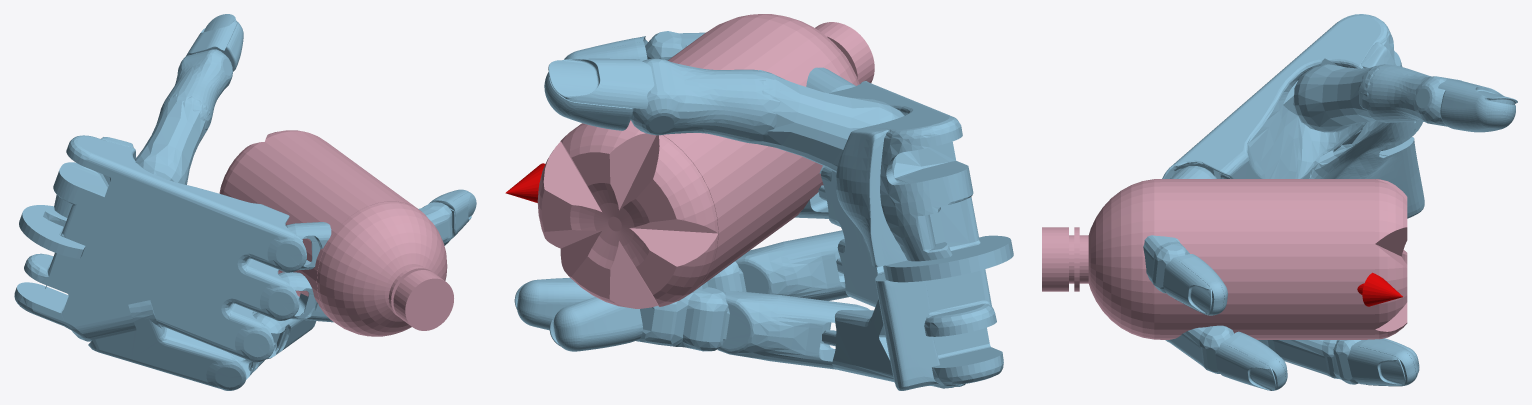
The picture shows the model from 3 angles, left to right: view 1: azimuth 30°, elevation 25°; view 2: azimuth 150°, elevation 25°; view 3: azimuth 270°, elevation 25°; orthographic projection. The views are drawn at different scales.
Parts seen in each view (by area): view 1: world, water_bottle.stl; view 2: world, water_bottle.stl; view 3: world, water_bottle.stl.
Boxes of the visible parts, x1,y1,x2,y2 form: world: (14, 14, 476, 390); water_bottle.stl: (219, 130, 453, 336); world: (505, 31, 1013, 390); water_bottle.stl: (537, 14, 874, 308); world: (1143, 14, 1517, 390); water_bottle.stl: (1042, 179, 1407, 339).
Size of the model in its own units: 0.1883 by 0.1248 by 0.1779.
